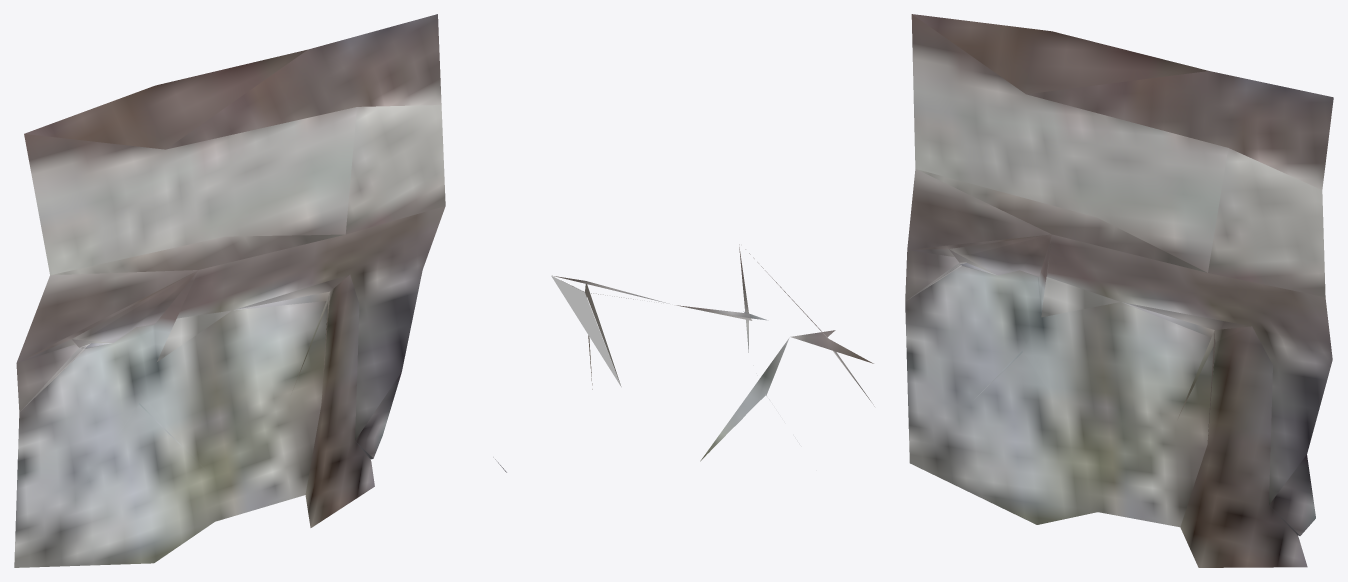
3 renders of one model, left to right at view 1: azimuth 30°, elevation 25°; view 2: azimuth 150°, elevation 25°; view 3: azimuth 330°, elevation 25°, orthographic. The views are drawn at different scales.
Size of the model in its own units: 48.85 by 54.19 by 7.09.
Materials: 1 (1 with a texture image).
